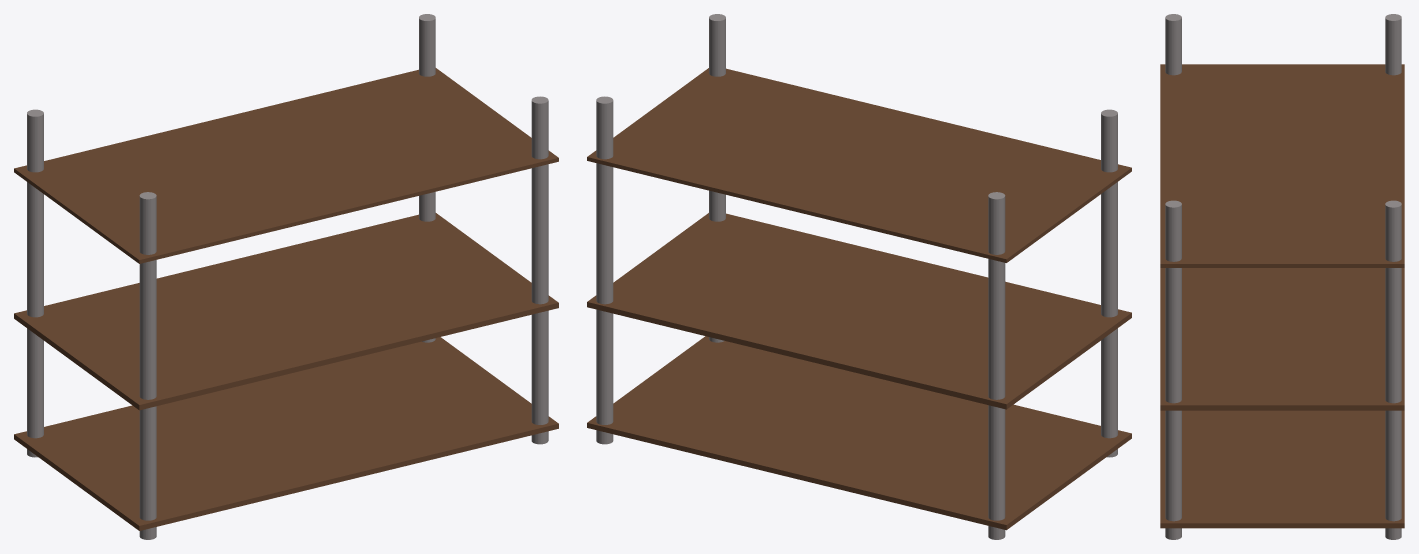
File: storage.fbx
3 views of the same model, side by side, from view 1: azimuth 30°, elevation 25°; view 2: azimuth 150°, elevation 25°; view 3: azimuth 270°, elevation 25° (orthographic). The views are drawn at different scales.
Parts seen in each view (by area): view 1: Cylinder.003; view 2: Cylinder.003; view 3: Cylinder.003.
Part boxes in pixels (<box>): Cylinder.003: <box>14,14,558,539</box>; Cylinder.003: <box>587,14,1131,539</box>; Cylinder.003: <box>1160,14,1404,539</box>.
Bounding box in the file's own units: 1069 × 829 × 553.
